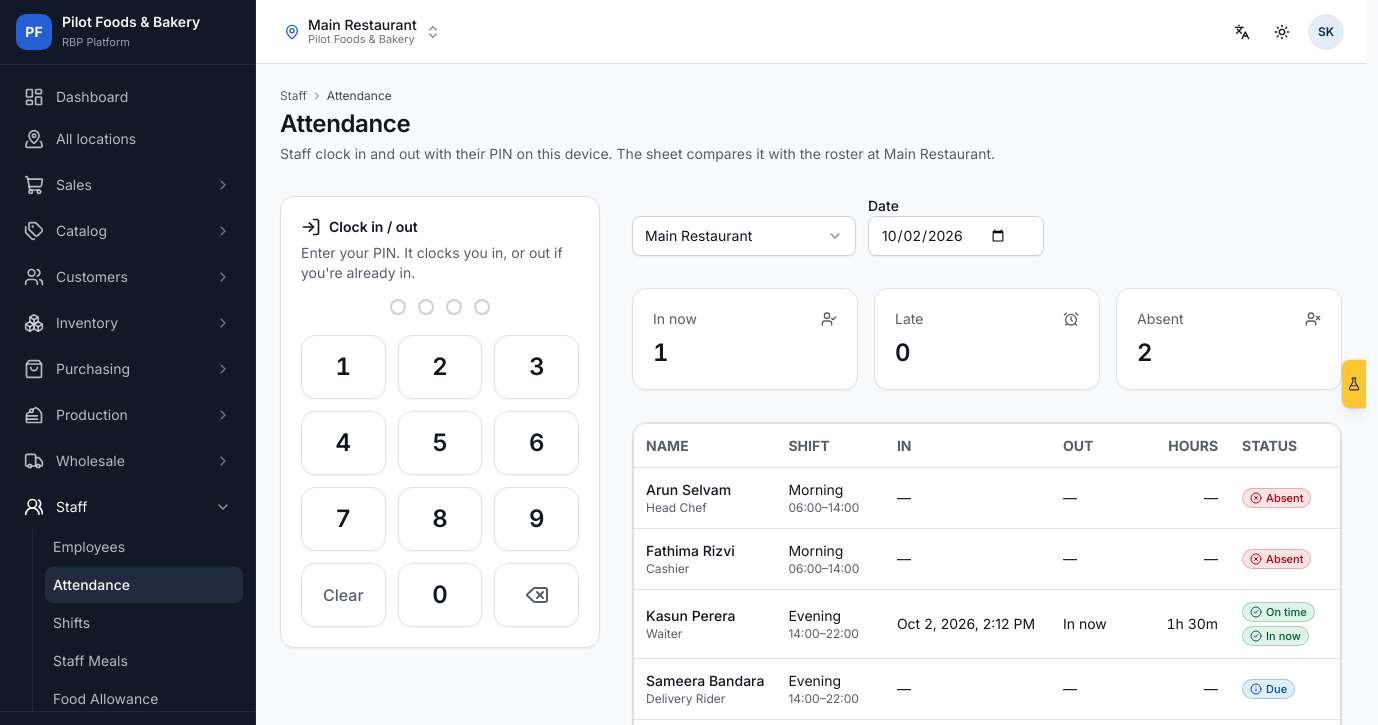
Test: HR-003 clock in / out › toggles an employee with their PIN on the shared device
This screenshot has width=1378, height=725.
Click the button "3".
click(537, 367)  # box [494, 335, 579, 399]
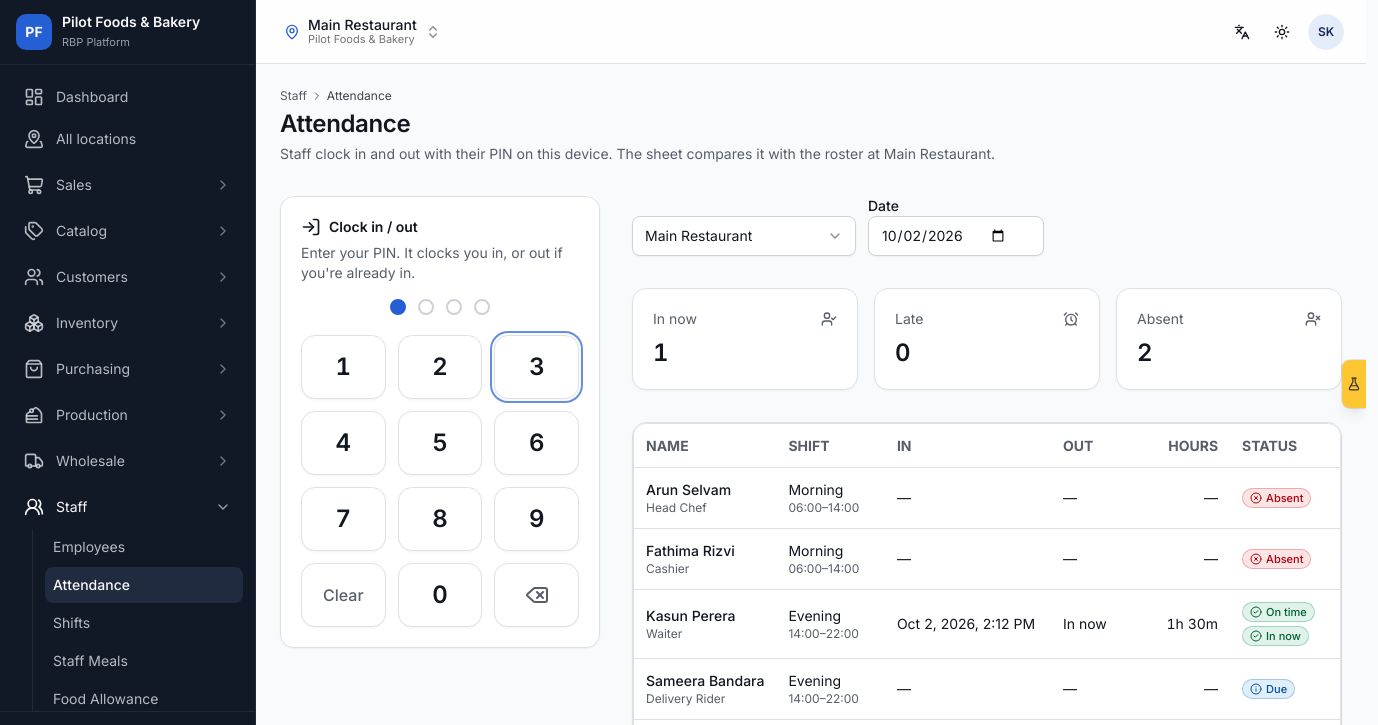
Click the button "3".
click(537, 367)  # box [494, 335, 579, 399]
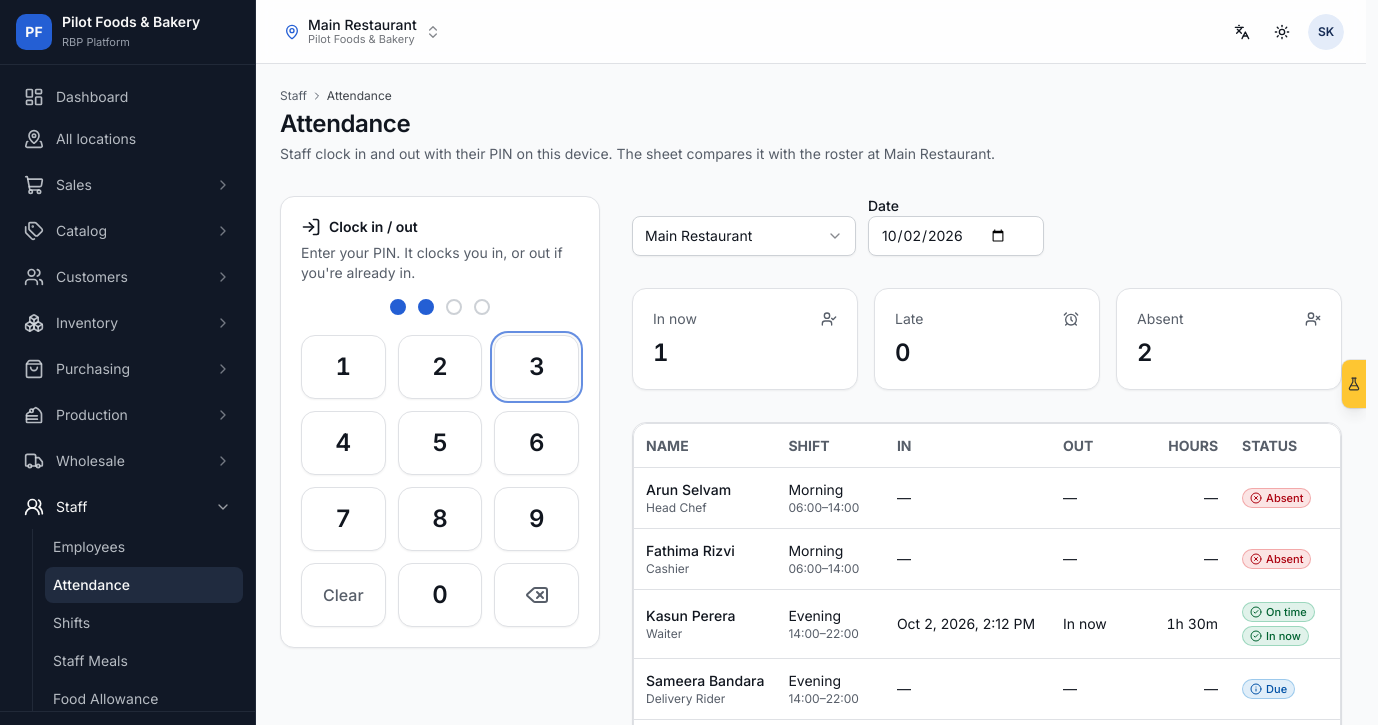
Click the button "3".
click(537, 367)  # box [494, 335, 579, 399]
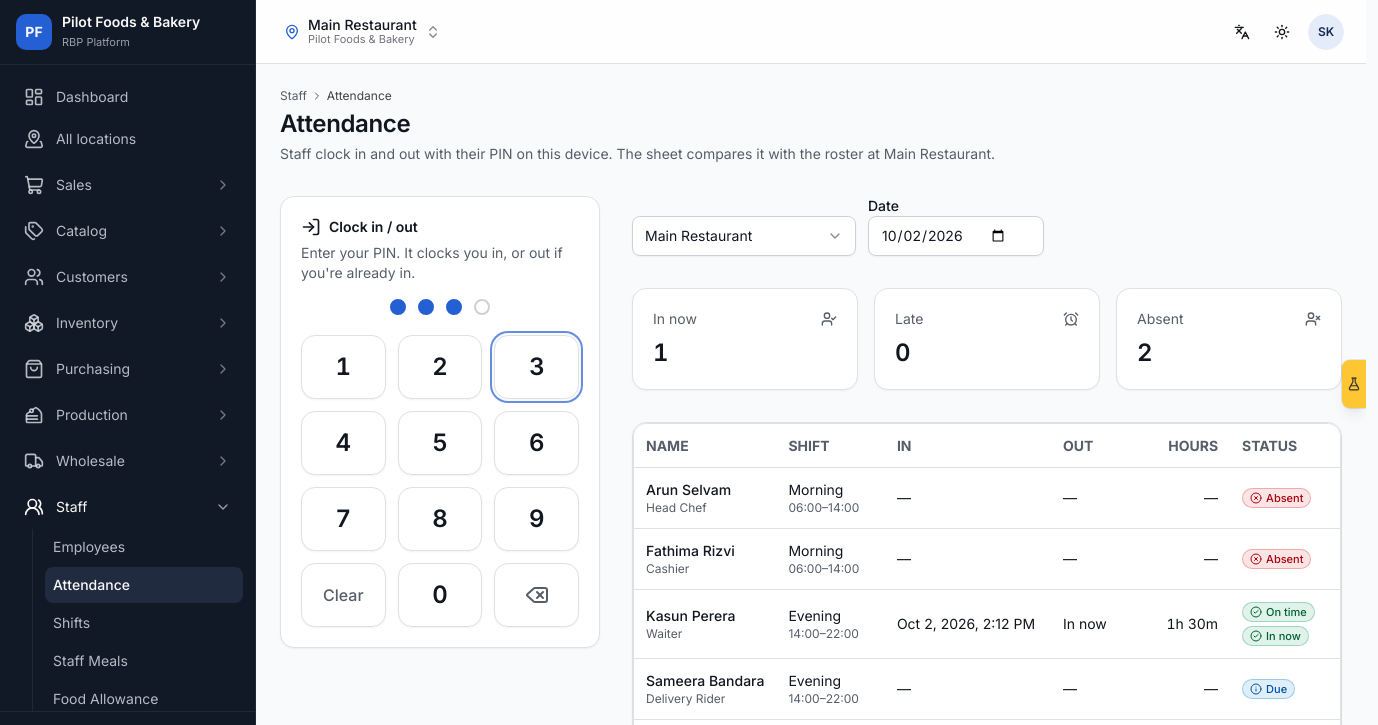
Click the button "3".
click(537, 367)  # box [494, 335, 579, 399]
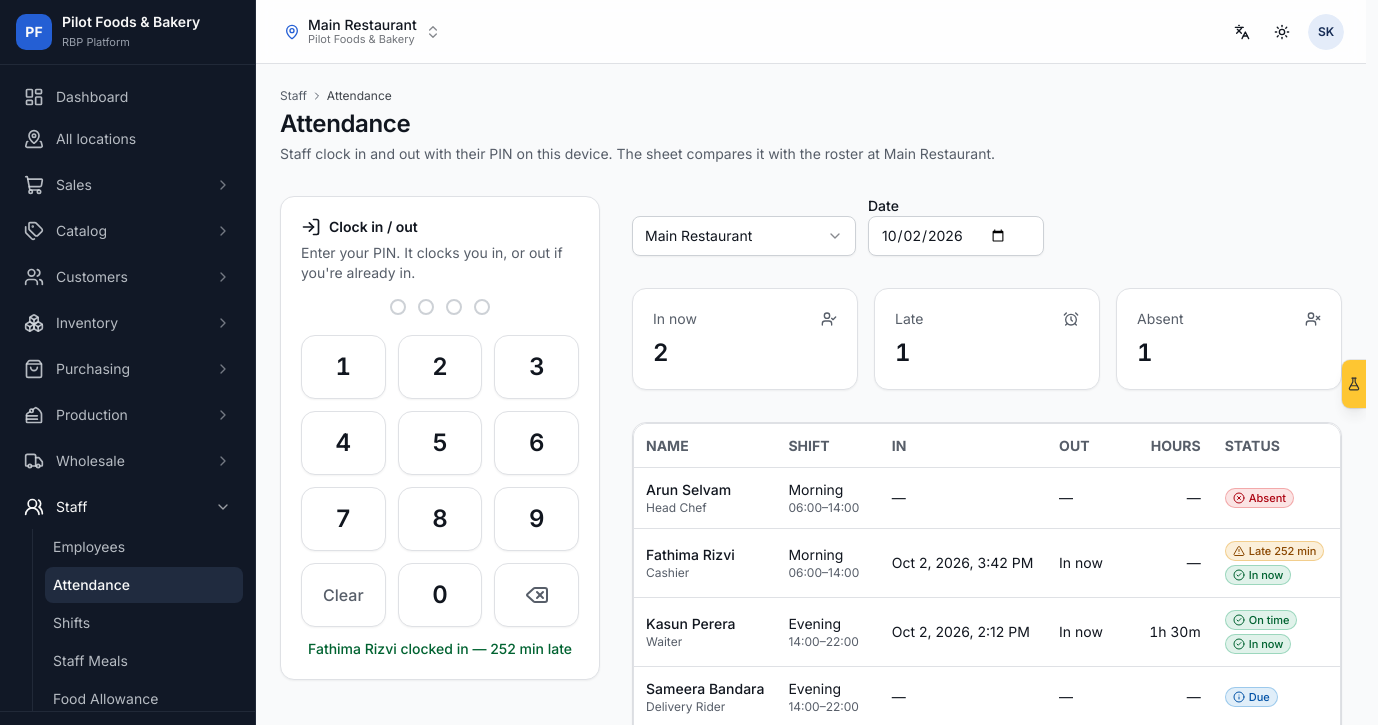
Now the text "Fathima Rizvi clocked in — 252 min late" is shown, box [301, 639, 579, 659]
